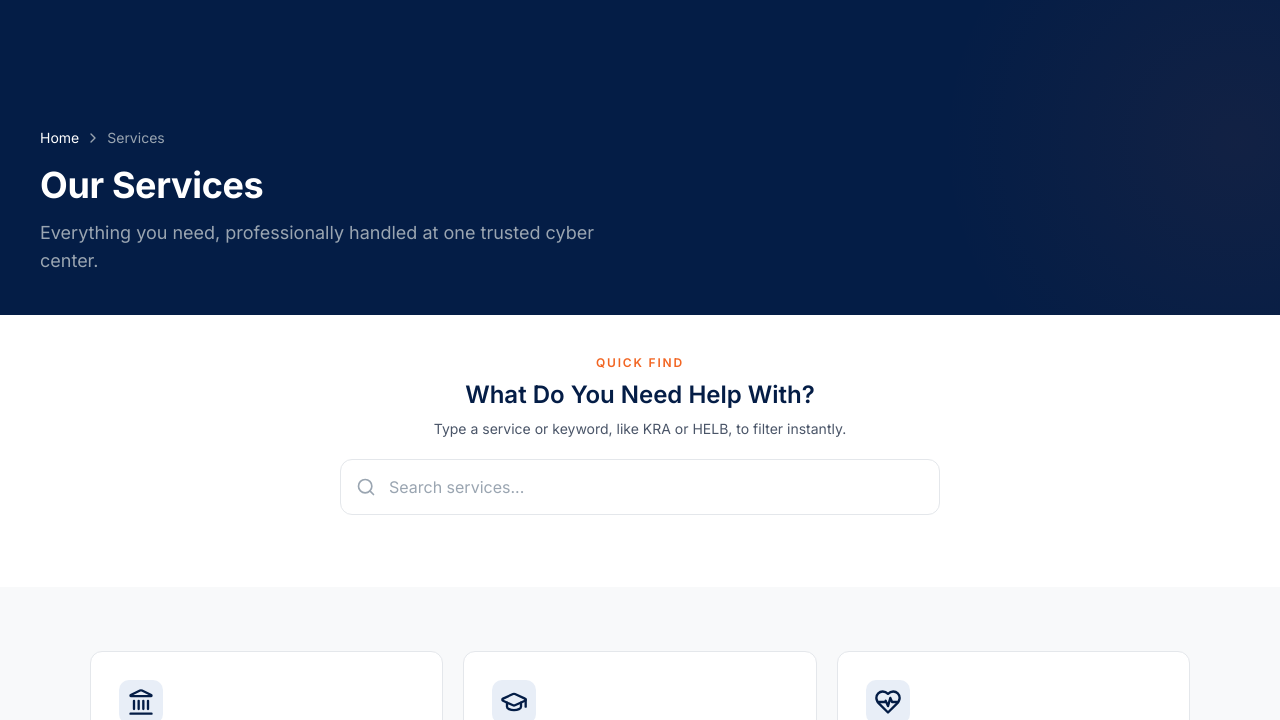
ServicesHub › shows the empty state when no services match
This screenshot has width=1280, height=720.
Type "zzzz" into the search field labelled "Search services" at coordinates (640, 487), box [340,459,940,515]
(page scrolled)
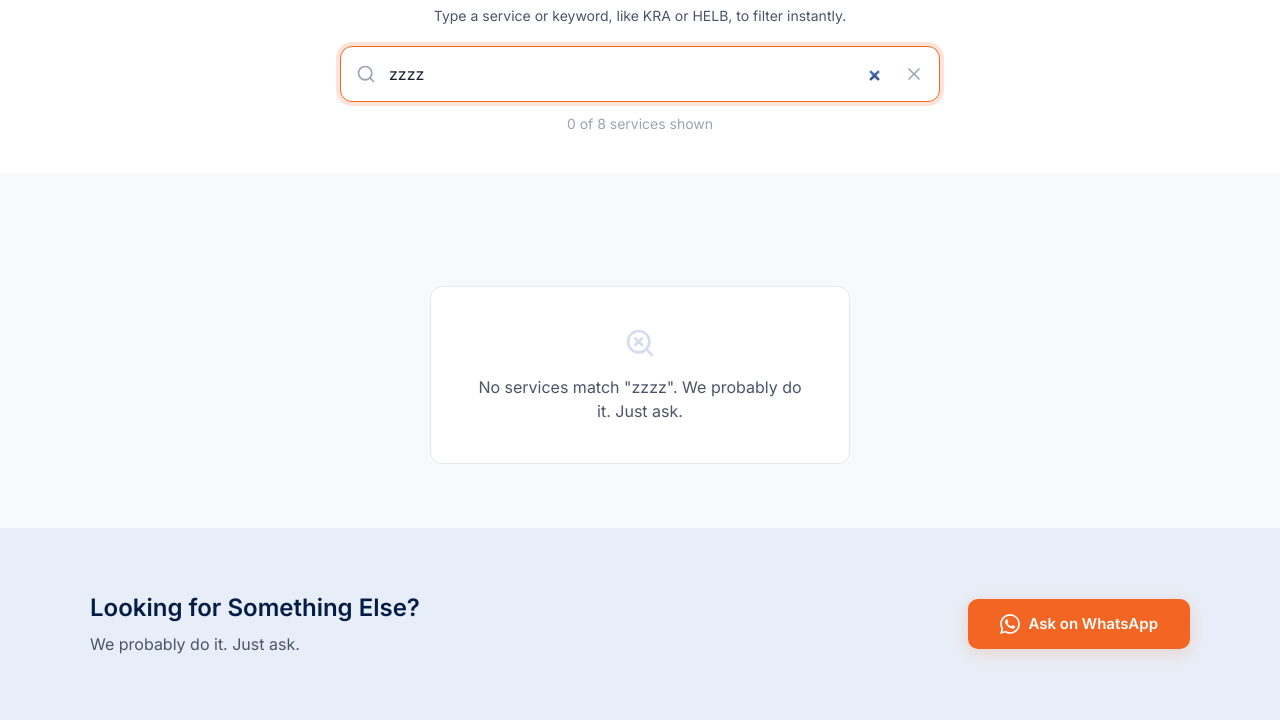
Result: the text "No services match \"zzzz\". We probably do it. Just ask." is shown at [471,375,809,423]
